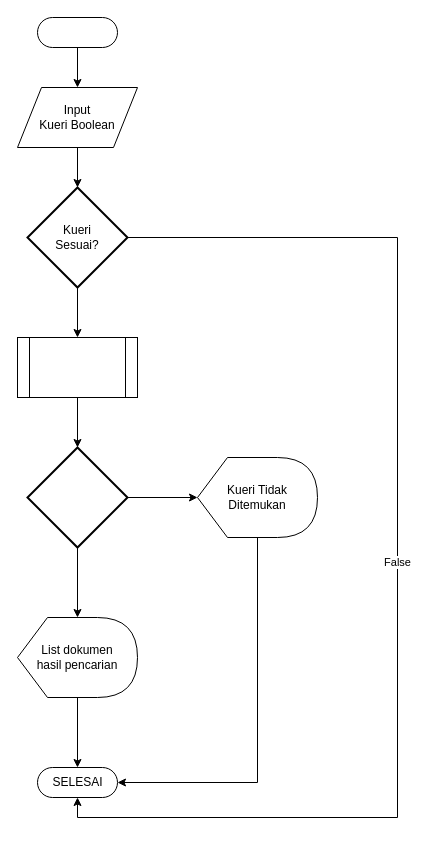
Some shapes in this 428 by 843 pixel diagram are drawn without their labels. Here are the shapes that lost their labels. From the top down, the centre of each, then its label:
[77,32]: MULAI
[77,367]: Search
[77,497]: Kueri Ditemukan?
